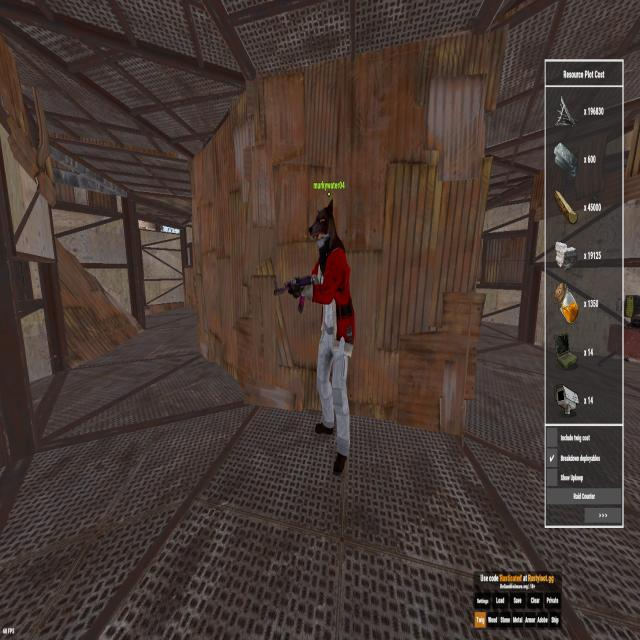Player: (292, 197, 361, 481)
